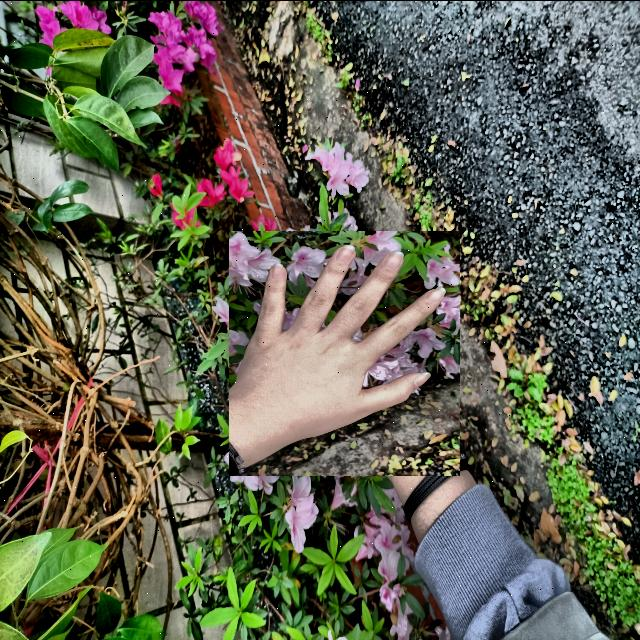not-gloved: (226, 233, 464, 472)
